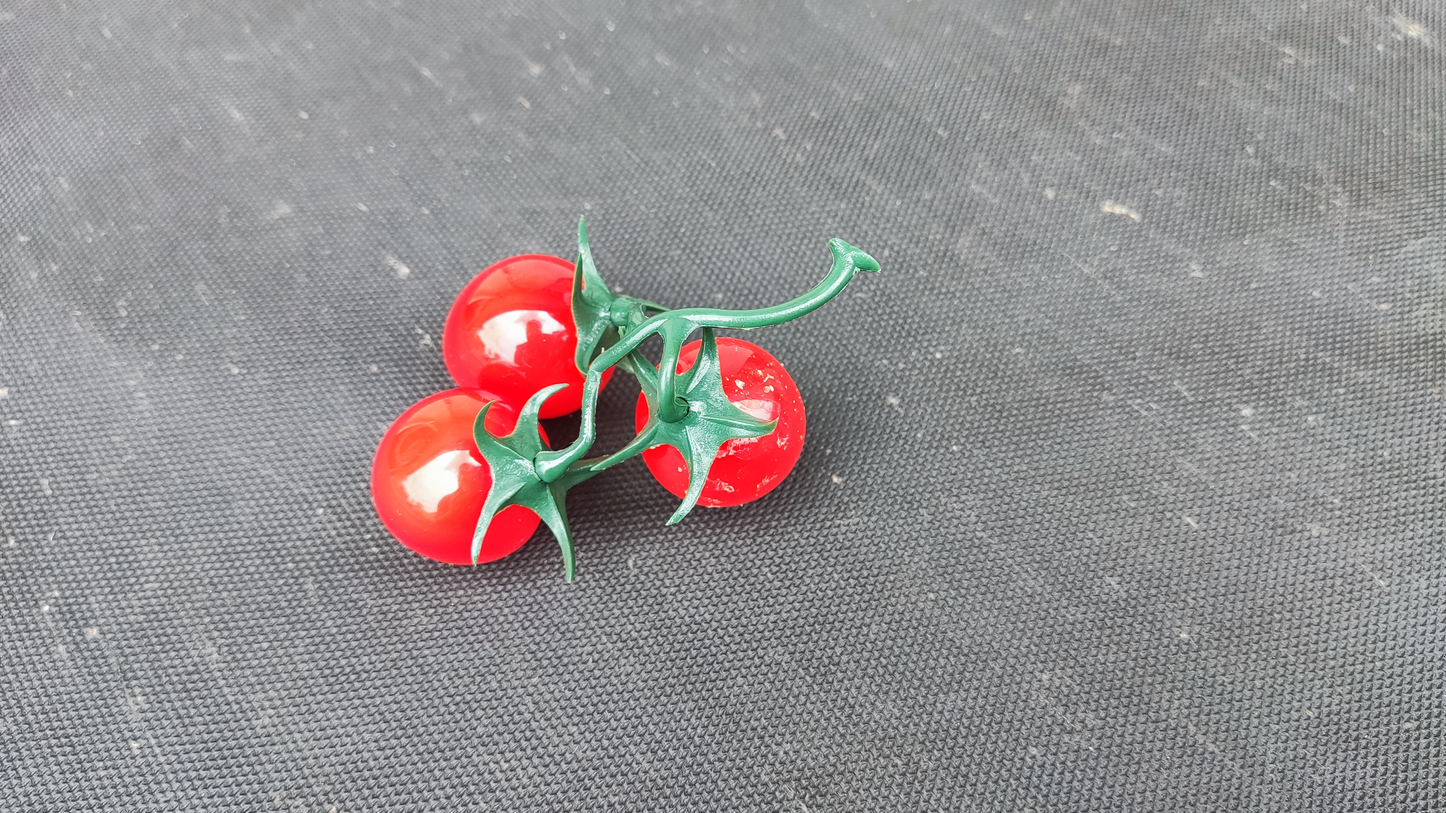peduncle: (703, 271, 848, 331)
strawberry: (370, 387, 517, 565), (441, 253, 583, 417), (698, 336, 806, 506), (479, 504, 540, 562), (642, 443, 690, 497)
